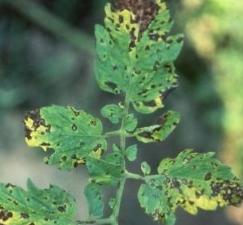Tomato Septoria leaf spot: (84, 0, 185, 111), (132, 145, 243, 225), (10, 105, 117, 168), (0, 181, 92, 225), (134, 109, 185, 150)
